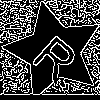R: (29, 26, 88, 84)
